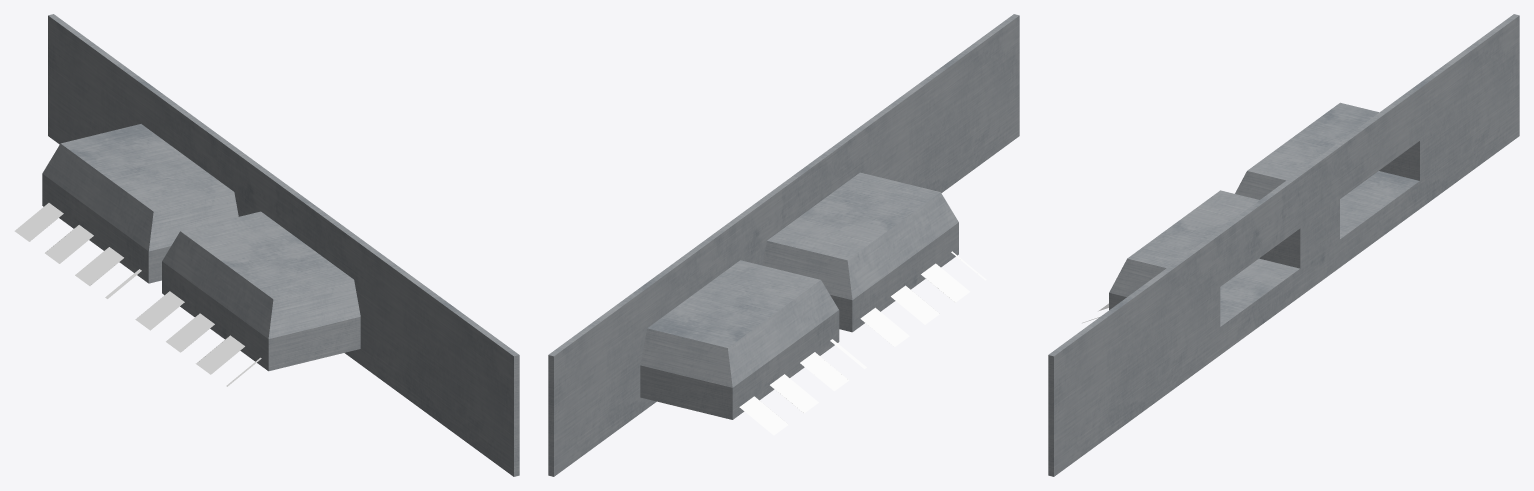
File: IO-Plate-2-Socket.obj
3 renders of one model, left to right at view 1: azimuth 30°, elevation 25°; view 2: azimuth 150°, elevation 25°; view 3: azimuth 330°, elevation 25°, orthographic.
Parts seen in each view (by area): view 1: IO-Plate-2-Socket; view 2: IO-Plate-2-Socket; view 3: IO-Plate-2-Socket.
Part boxes in pixels (x1,y1,x2,y2): IO-Plate-2-Socket: (14, 14, 519, 476); IO-Plate-2-Socket: (548, 14, 1019, 476); IO-Plate-2-Socket: (1048, 14, 1519, 476).
Size of the model in its own units: 1.15 by 1 by 7.
